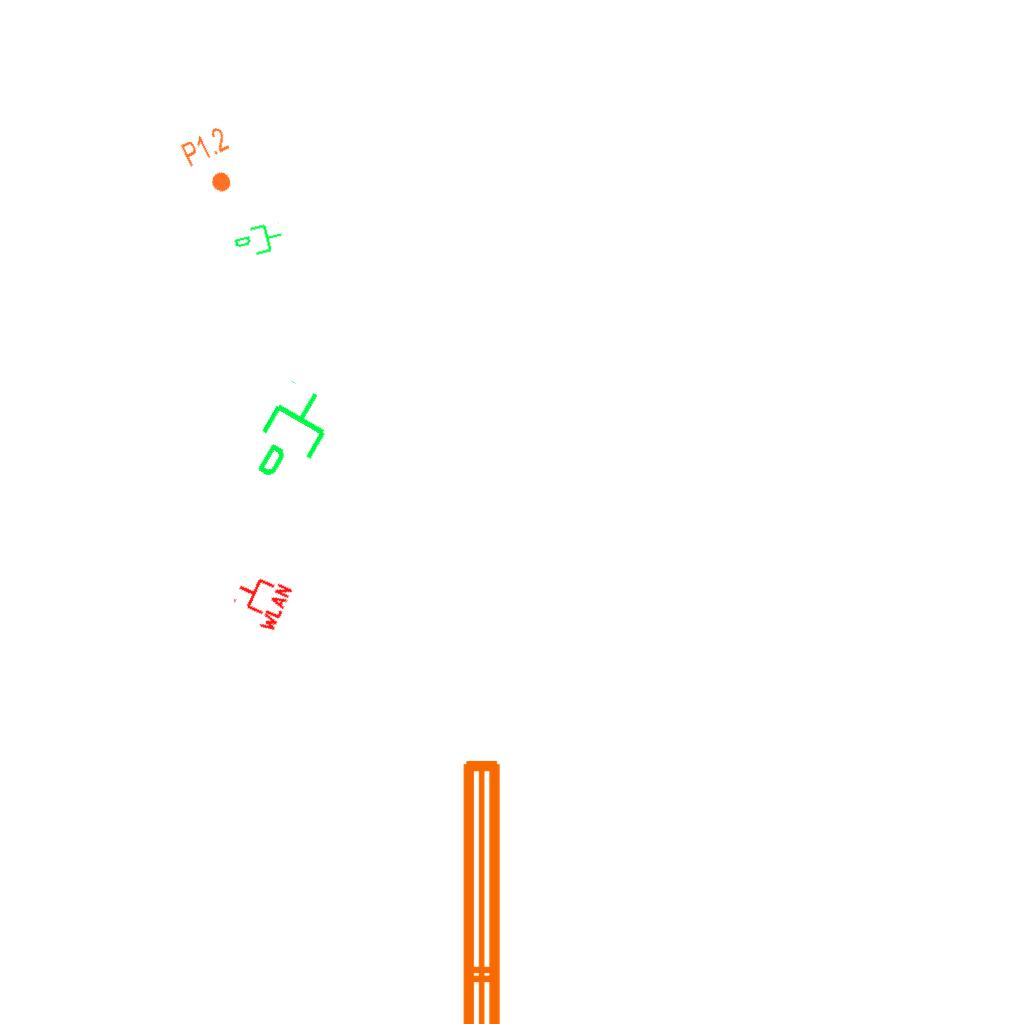Ambulanz_Pendelleuchte_LED: (451, 750, 563, 1024)
Datenanschluss_einfach: (238, 375, 349, 497), (230, 218, 288, 264)
Downlight_LED_Einbauleuchten_Flur: (178, 124, 248, 202)
WLAN: (225, 566, 295, 636)
